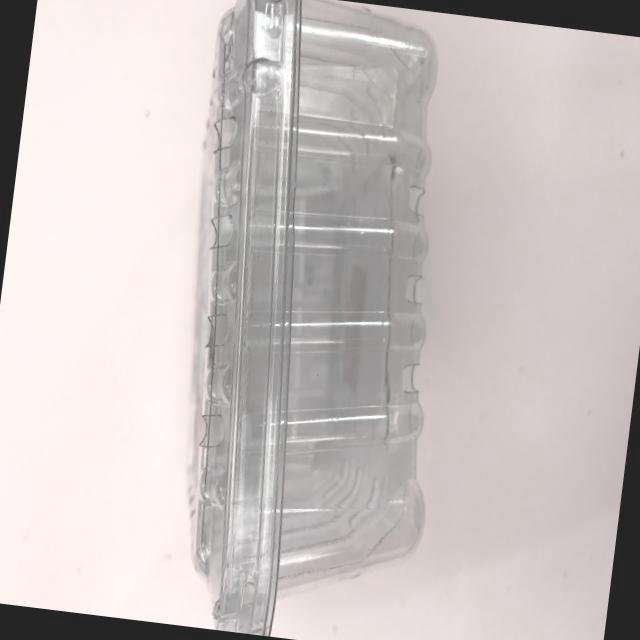plastic: (63, 0, 518, 640)
